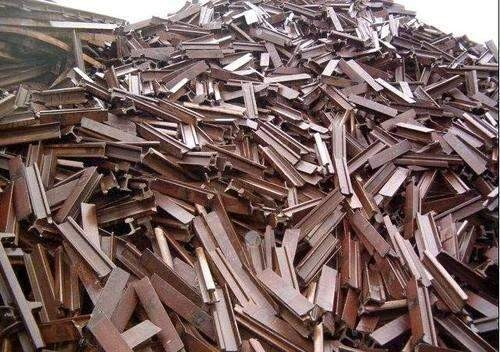metal: (47, 208, 122, 283), (125, 269, 189, 352), (21, 239, 69, 328), (130, 141, 220, 186), (249, 266, 316, 322), (290, 223, 345, 288), (320, 117, 364, 198), (395, 273, 441, 350), (419, 247, 474, 311), (14, 164, 67, 228), (207, 280, 246, 350), (133, 114, 190, 161), (255, 139, 307, 189), (391, 174, 429, 240), (439, 125, 489, 175), (186, 236, 223, 302), (313, 74, 361, 116), (33, 105, 118, 128), (336, 231, 365, 294), (76, 196, 104, 261), (174, 33, 231, 64), (40, 136, 110, 161), (1, 119, 67, 145), (362, 138, 419, 168), (150, 187, 195, 224), (256, 63, 313, 91), (143, 223, 177, 266), (234, 76, 264, 120), (387, 116, 436, 142)
